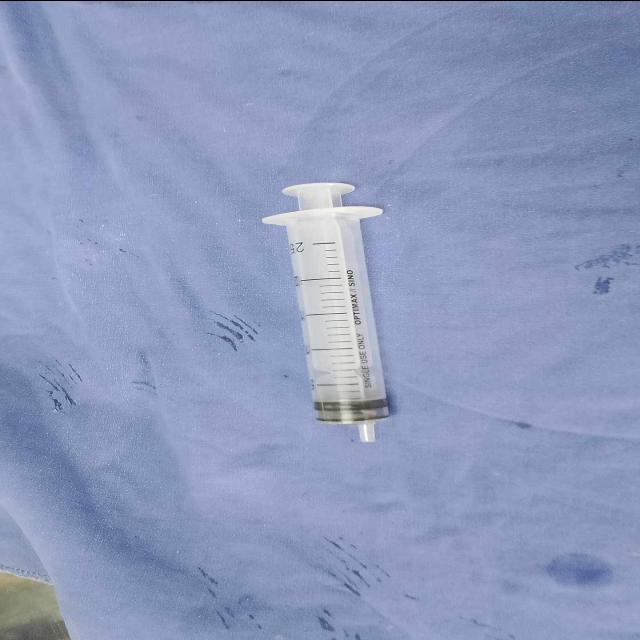Sharps: (259, 181, 392, 442)
